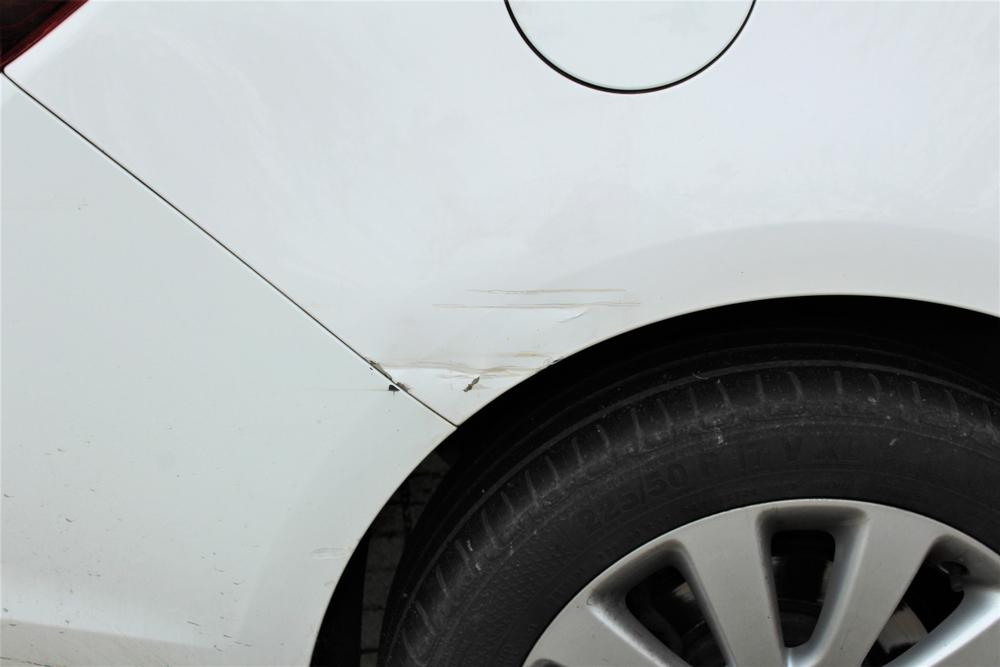scratch: (366, 272, 646, 406)
